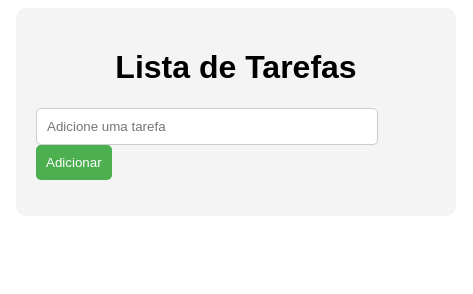
Scenario: adiciona uma tarefa enviando POST para /todos
Type "Nova tarefa" into the field with placeholder "Adicione uma tarefa". click: (207, 126)
box: x1=36 y1=108 x2=378 y2=145
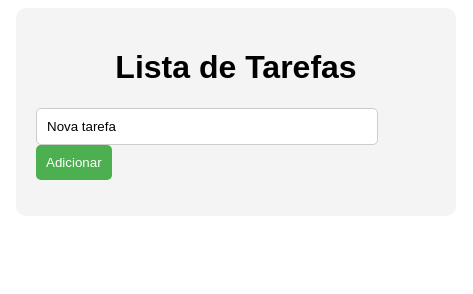
Click the button "Adicionar". click: (74, 162)
box: x1=36 y1=145 x2=112 y2=180
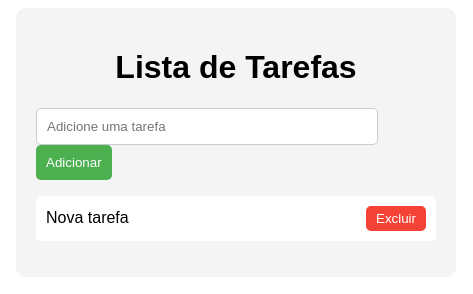
Now the text "Nova tarefa" is shown, box x1=46 y1=209 x2=129 y2=227
